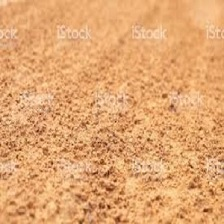sandy_soil: (9, 16, 212, 214)
